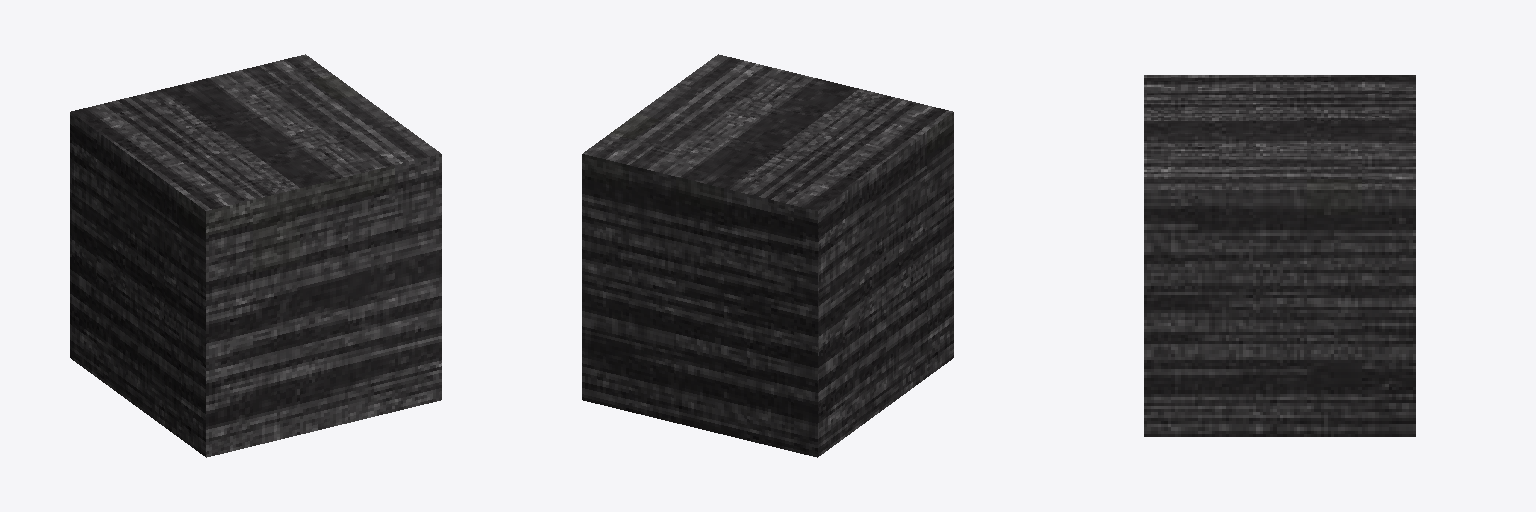
The picture shows the model from 3 angles: view 1: azimuth 30°, elevation 25°; view 2: azimuth 150°, elevation 25°; view 3: azimuth 270°, elevation 25°; orthographic projection.
Visible parts, largest first — view 1: Cube; view 2: Cube; view 3: Cube.
Boxes of the visible parts, <box> form: Cube: <box>70,54,441,457</box>; Cube: <box>582,54,953,457</box>; Cube: <box>1144,75,1415,436</box>.
Size of the model in its own units: 2 by 2 by 2.
1 materials, 1 textured.